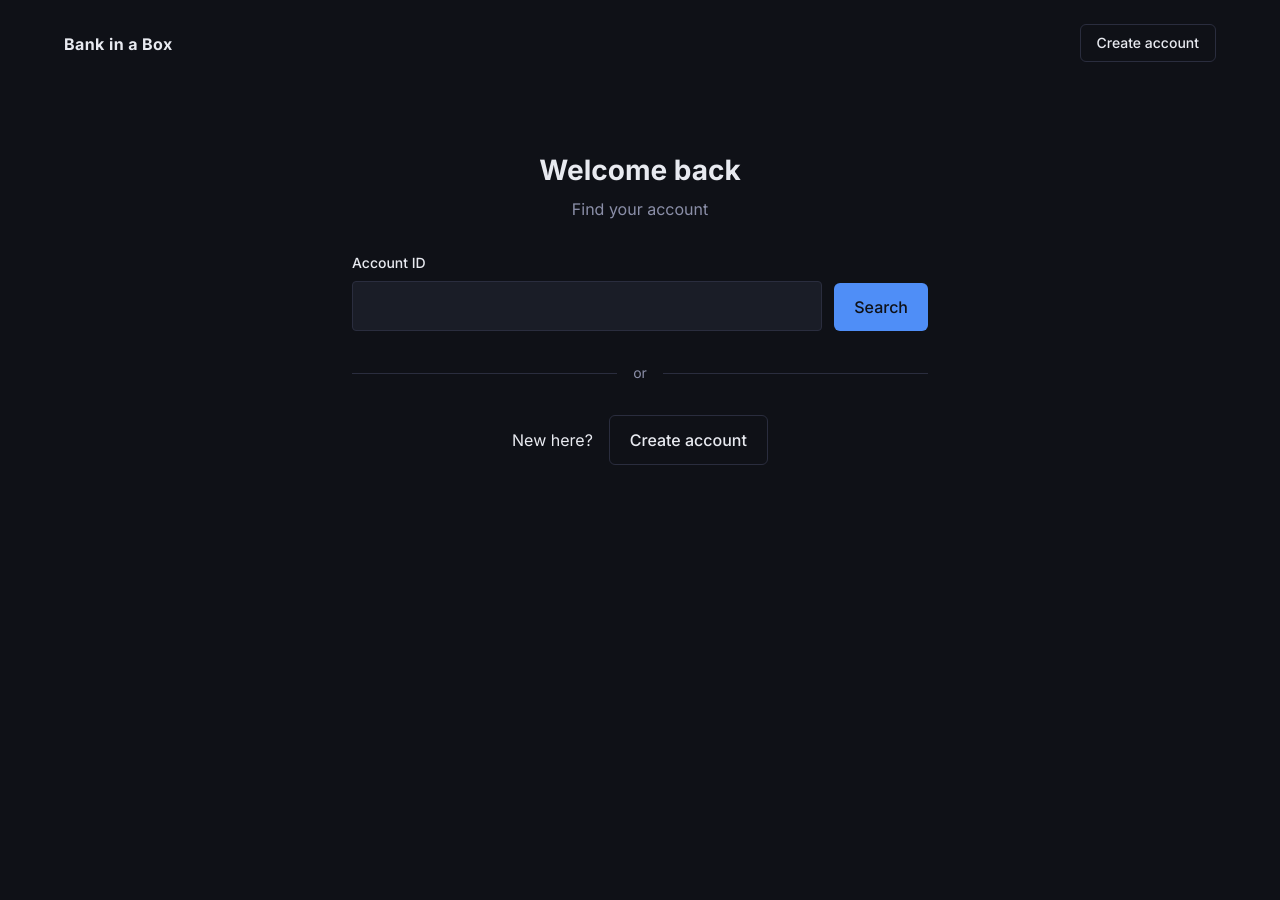
it: HomePage account creation › validates required fields and a positive initial deposit before calling the API
Click the button "Create account" next to "New here?" at {"x": 688, "y": 440}, box [609,415,768,465]
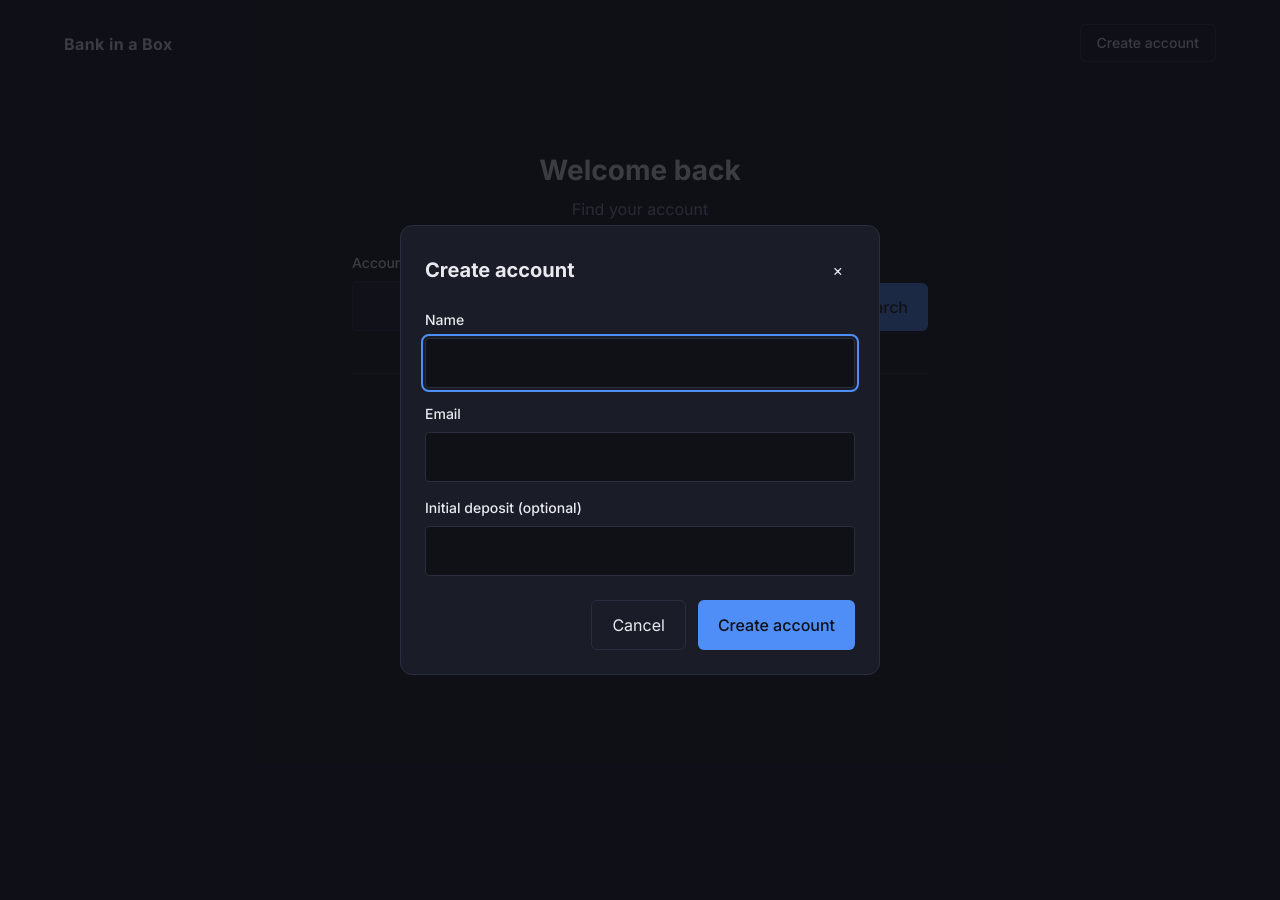
Type "0" into the field labelled "Initial deposit (optional)" at {"x": 640, "y": 551}, box [425,526,855,576]
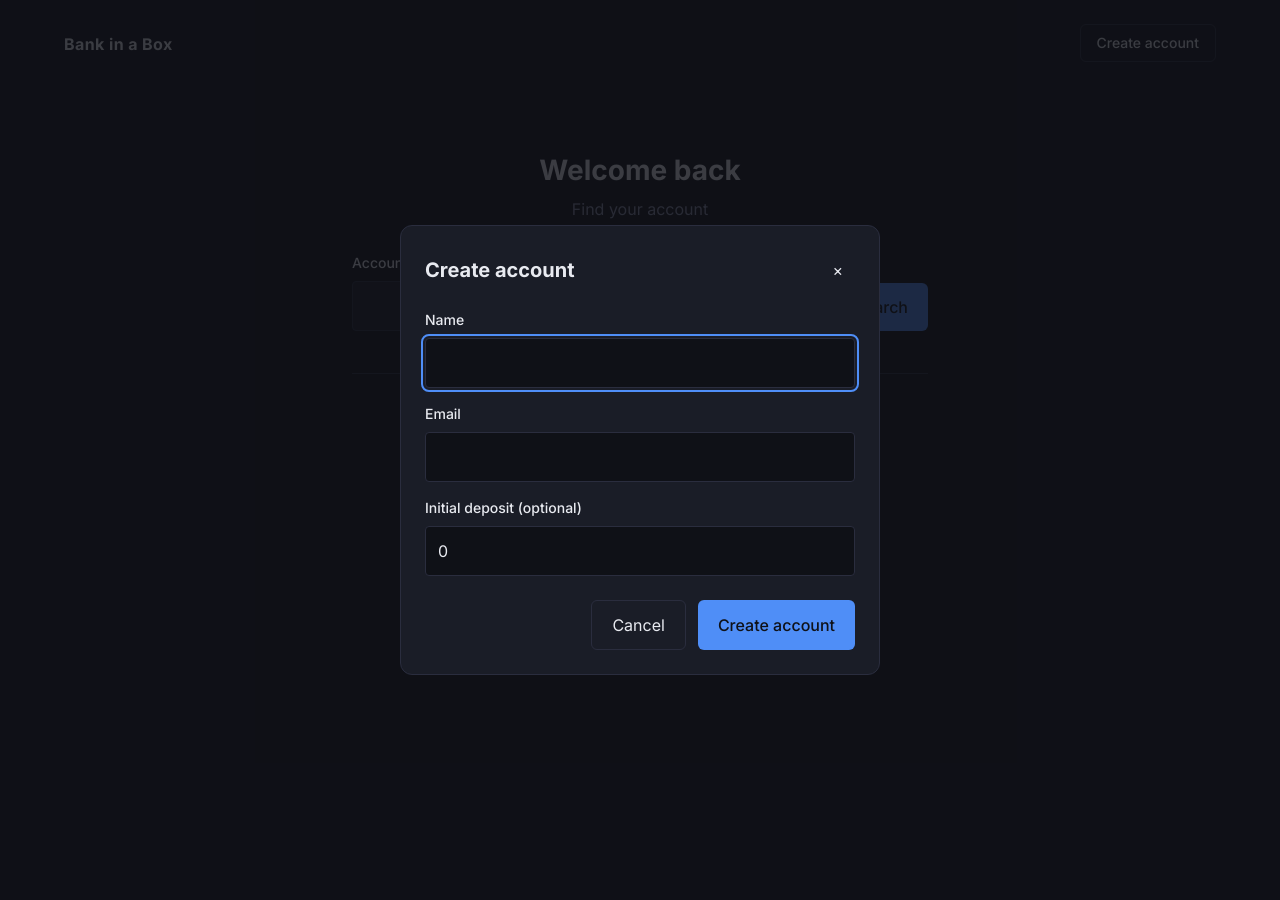
Click the button "Create account" at {"x": 776, "y": 625}, box [698,600,855,650]
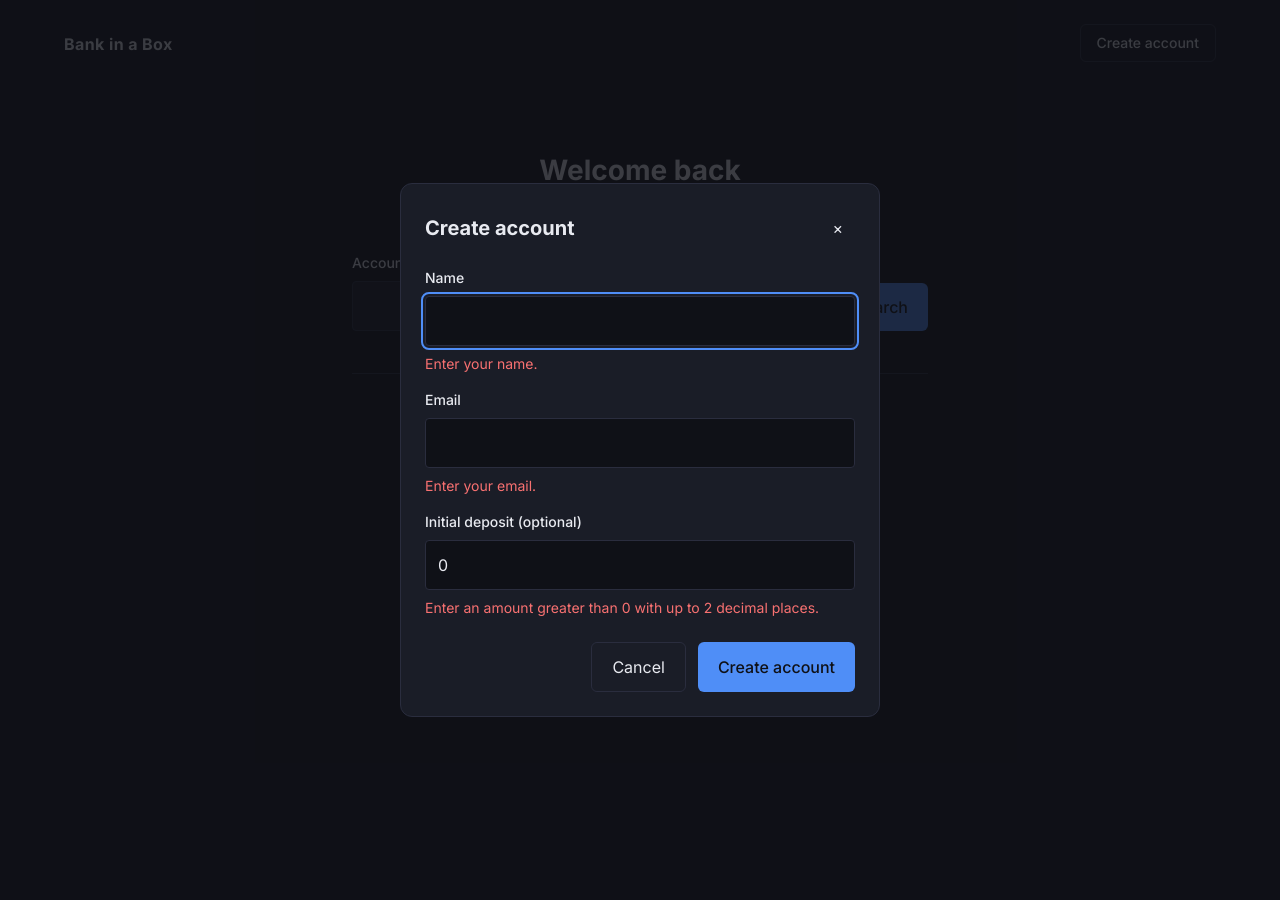
Expected: the text "Enter your name." is shown, [425,355,538,372]
Expected: the text "Enter your email." is shown, [425,477,536,494]
Expected: the text "Enter an amount greater than 0 with up to 2 decimal places." is shown, [425,598,855,618]
